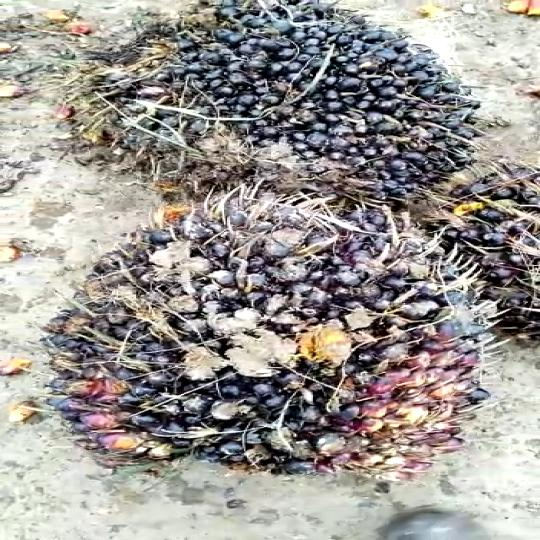mentah: (71, 199, 508, 509), (62, 0, 498, 208)
